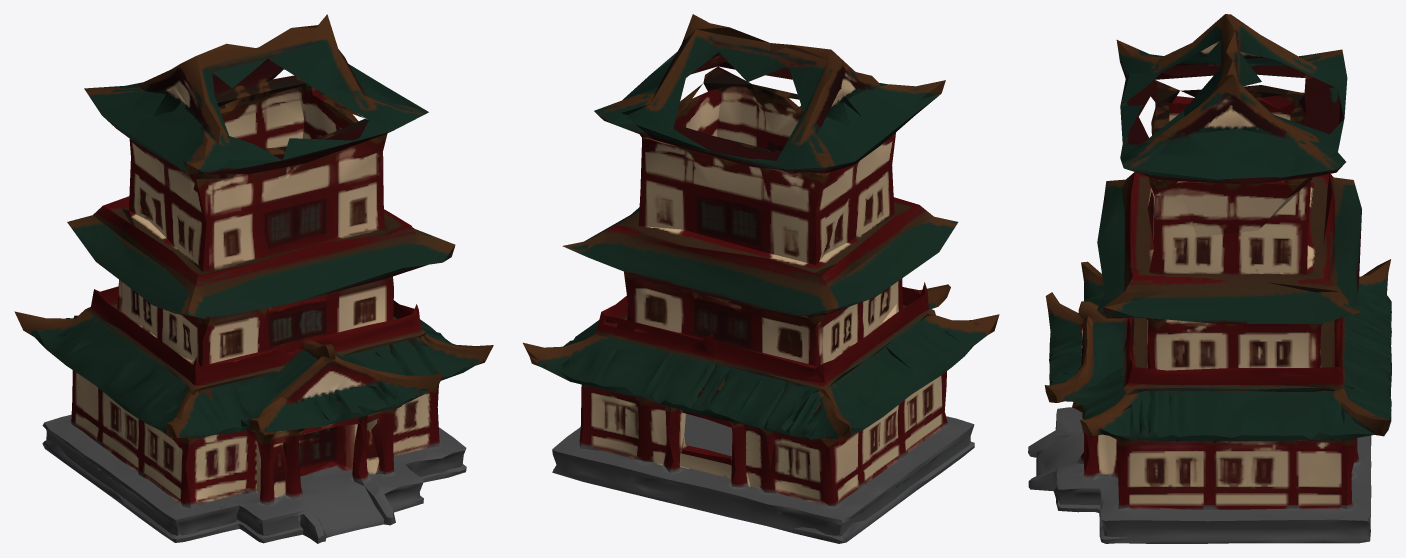
Rendered from chinese-pavilion.glb.
3 views of the same model, side by side, from view 1: azimuth 30°, elevation 25°; view 2: azimuth 150°, elevation 25°; view 3: azimuth 270°, elevation 25° (orthographic).
Visible parts, largest first — view 1: world; view 2: world; view 3: world.
Part boxes in pixels (<box>): world: <box>14,14,493,543</box>; world: <box>523,14,999,543</box>; world: <box>1028,14,1391,543</box>.
Bounding box in the file's own units: 0.3857 × 0.48 × 0.3653.
Materials: 1 (1 with a texture image).
